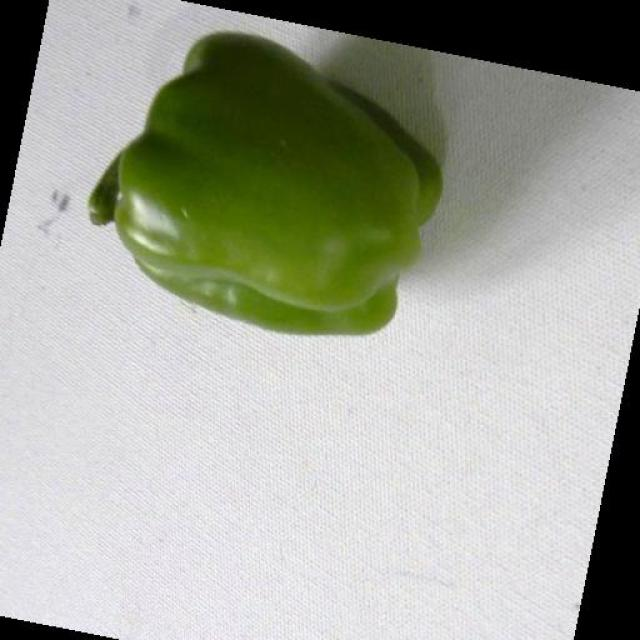Fresh_Capsicum: (91, 54, 466, 382)
